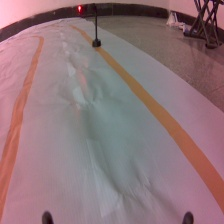red: (75, 3, 102, 50)
